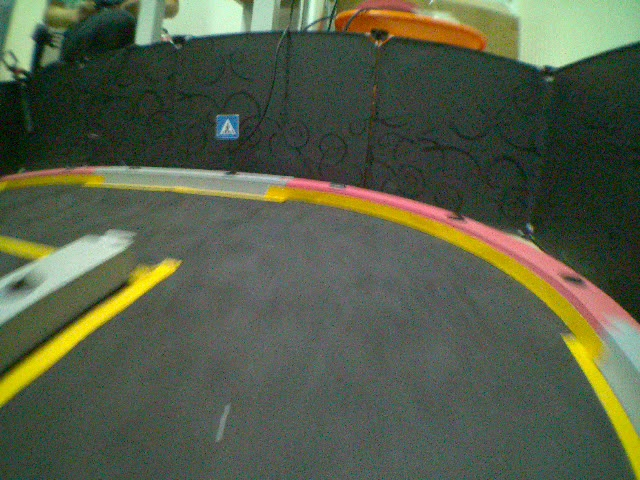crossing: (213, 113, 239, 138)
